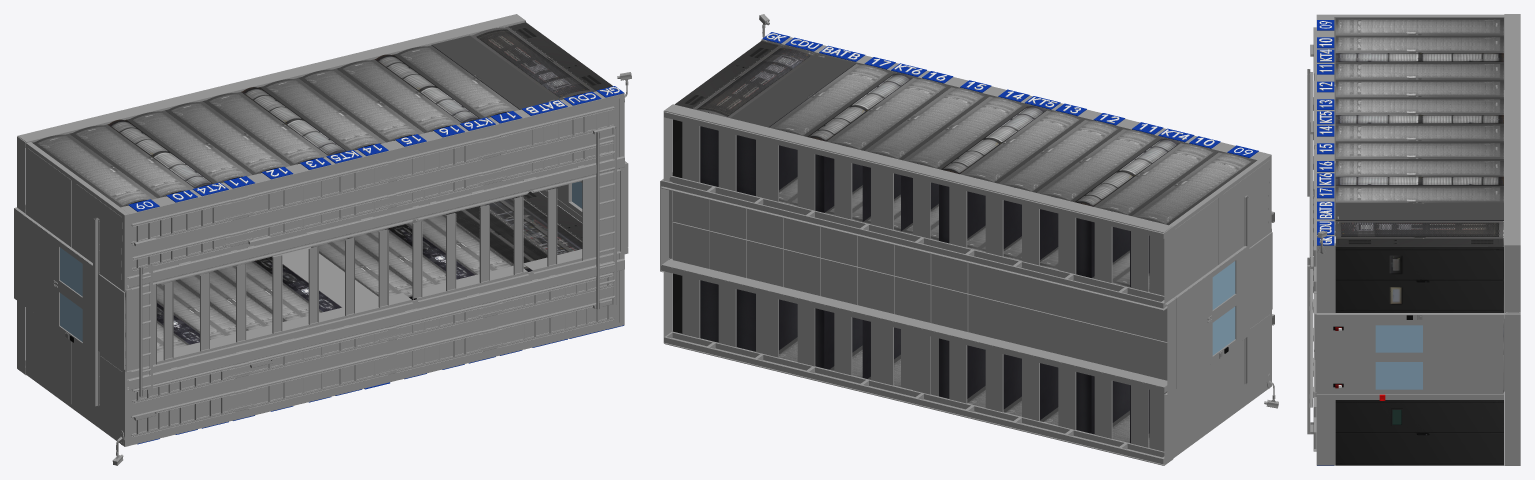
File: 2-5-E-max.FBX
The picture shows the model from 3 angles, left to right: view 1: azimuth 30°, elevation 25°; view 2: azimuth 150°, elevation 25°; view 3: azimuth 270°, elevation 25°; orthographic projection. The views are drawn at different scales.
Visible parts, largest first — view 1: Ke, BAT_B, A15, A10, A13, A16, A12, A11, A17, A14, CDU, A09 (+15 smaller); view 2: Ke, A16, A10, BAT_B, A13, A17, CDU, A11, A14, A12, A15, A09 (+9 smaller); view 3: Ke, GK, AC, BAT_B, A12, A14, A11, A13, CDU, A09, A15, A16 (+5 smaller).
Part boxes in pixels (x1,y1,x2,y2): Ke: [14, 14, 631, 465]; BAT_B: [431, 35, 557, 109]; A15: [298, 68, 423, 142]; A10: [69, 124, 194, 198]; A13: [203, 92, 327, 165]; A16: [336, 59, 461, 133]; A12: [165, 101, 290, 174]; A11: [127, 110, 252, 183]; A17: [394, 45, 519, 118]; A14: [260, 78, 385, 150]; CDU: [470, 26, 595, 100]; A09: [32, 134, 156, 207]; Ke: [660, 14, 1278, 465]; A16: [824, 78, 950, 222]; A10: [1091, 143, 1218, 287]; BAT_B: [730, 54, 855, 195]; A13: [960, 110, 1084, 252]; A17: [769, 64, 893, 206]; CDU: [693, 45, 816, 186]; A11: [1036, 129, 1160, 269]; A14: [901, 96, 1027, 240]; A12: [998, 120, 1122, 260]; A15: [862, 87, 989, 231]; A09: [1130, 152, 1255, 292]; Ke: [1307, 14, 1520, 465]; GK: [1335, 238, 1503, 312]; AC: [1335, 390, 1503, 465]; BAT_B: [1335, 202, 1503, 220]; A12: [1335, 79, 1503, 97]; A14: [1335, 123, 1503, 141]; A11: [1335, 62, 1503, 79]; A13: [1335, 97, 1503, 114]; CDU: [1335, 221, 1503, 238]; A09: [1335, 18, 1503, 35]; A15: [1335, 141, 1503, 158]; A16: [1335, 159, 1503, 176].
Size of the model in its own units: 332 by 163 by 125.
